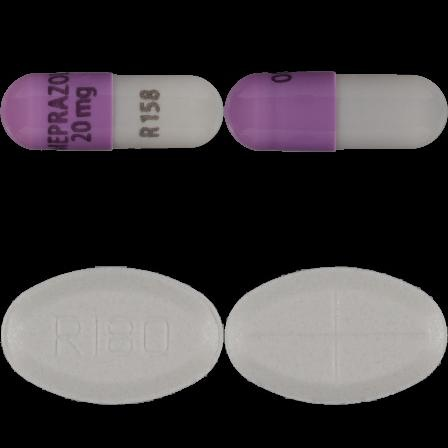45865-342: (0, 0, 224, 224)
